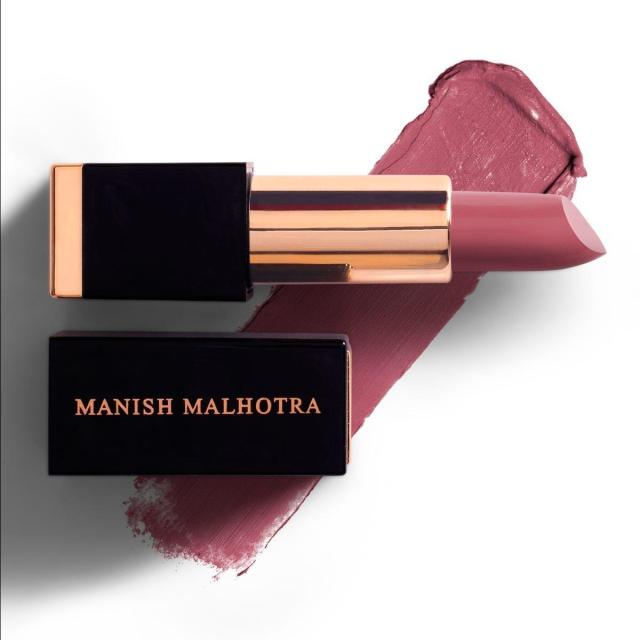lipstick: (22, 139, 598, 316)
